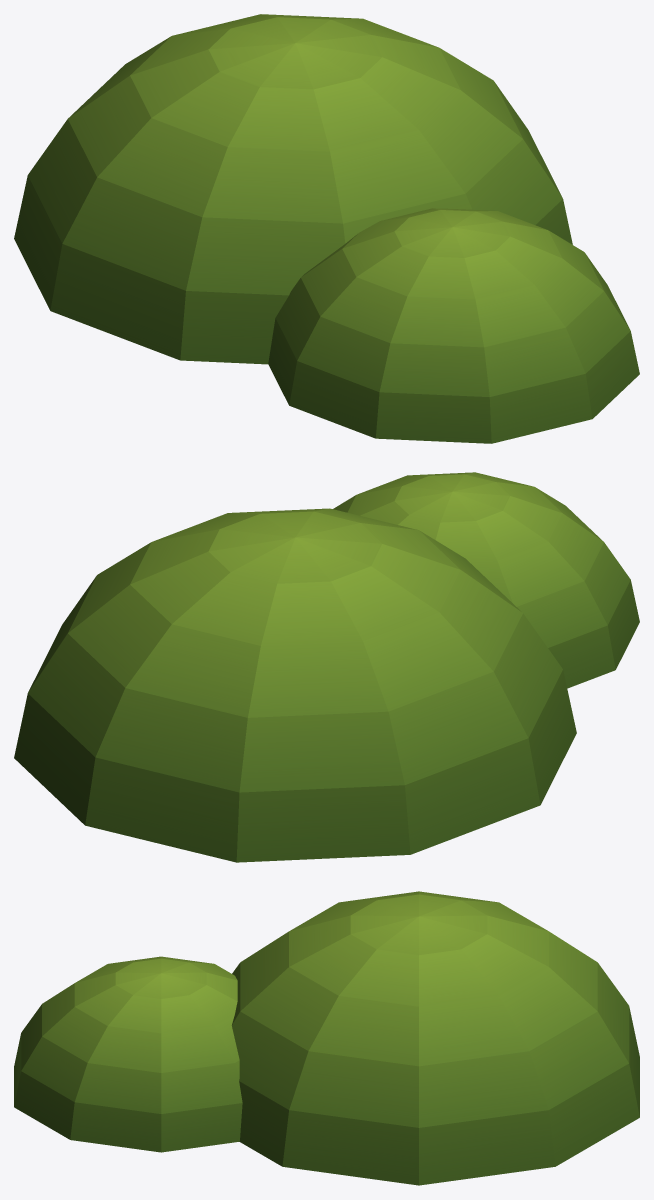
The model's file is arbusto7.fbx.
3 views of the same model, one above another, from view 1: azimuth 30°, elevation 25°; view 2: azimuth 150°, elevation 25°; view 3: azimuth 270°, elevation 25° (orthographic). The views are drawn at different scales.
Parts seen in each view (by area): view 1: arbusto17; view 2: arbusto17; view 3: arbusto17.
Part boxes in pixels (left/top/right/bottom): arbusto17: left=14, top=14, right=639, bottom=443; arbusto17: left=14, top=472, right=639, bottom=862; arbusto17: left=14, top=891, right=639, bottom=1185.
Bounding box in the file's own units: 251 × 102 × 338.
